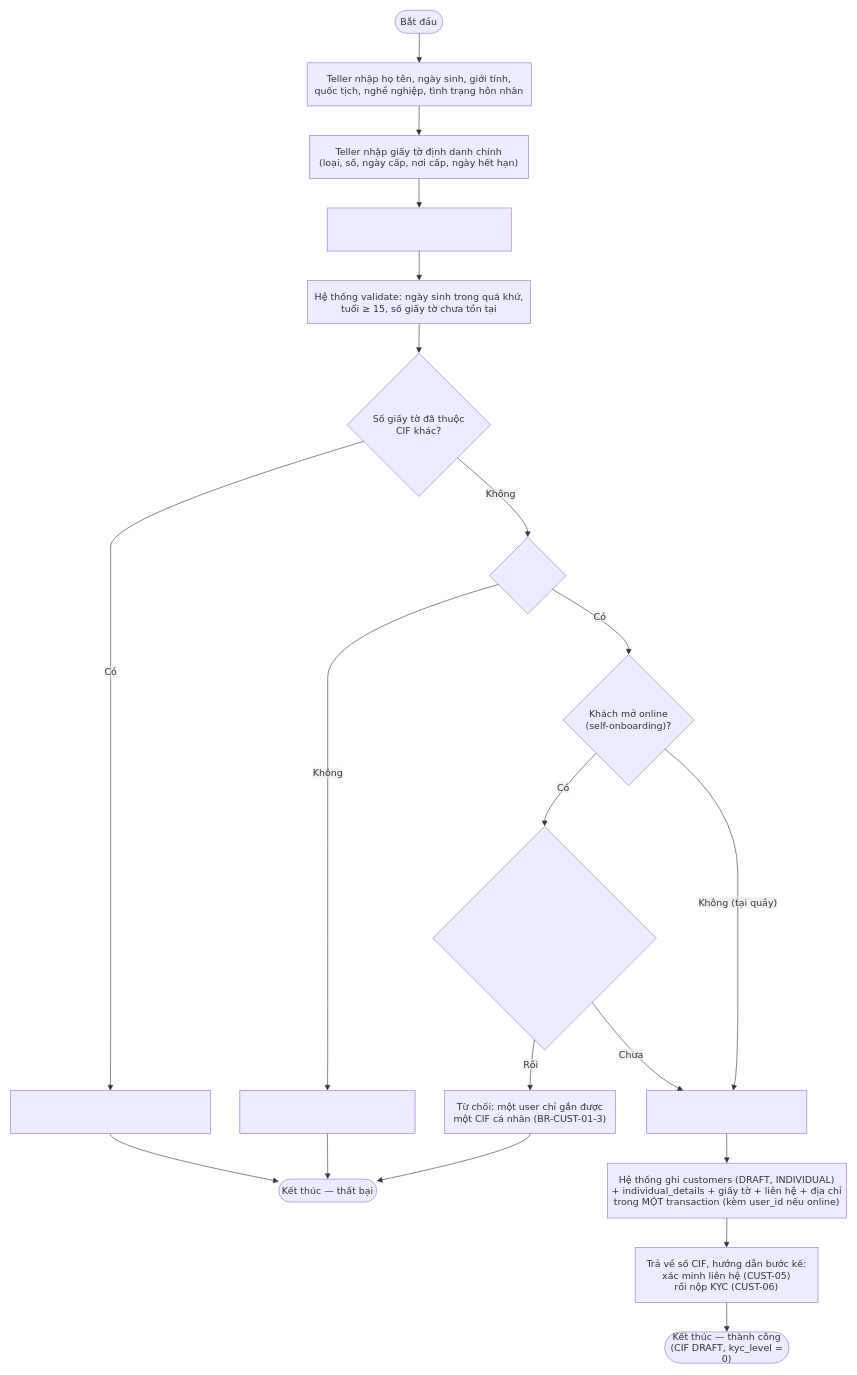
Some shapes in this 857 by 1375 pixel diagram are drawn without their labels. Each missing label, with the box of its shape:
Hệ thống sinh số CIF theo quy tắc đánh số (BR-G9): (646, 1090, 807, 1134)
Teller nhập liên hệ (mobile, email) và địa chỉ thường trú / nơi ở: (327, 207, 511, 251)
Tuổi ≥ 15?: (489, 537, 566, 614)
Từ chối — dưới độ tuổi tối thiểu (giám hộ ngoài phạm vi): (239, 1090, 415, 1134)
Từ chối, chỉ dẫn tra cứu hồ sơ hiện có (chống trùng danh tính): (10, 1090, 210, 1134)
User đang đăng nhập đã gắn CIF cá nhân khác chưa CLOSED?: (432, 826, 656, 1050)
